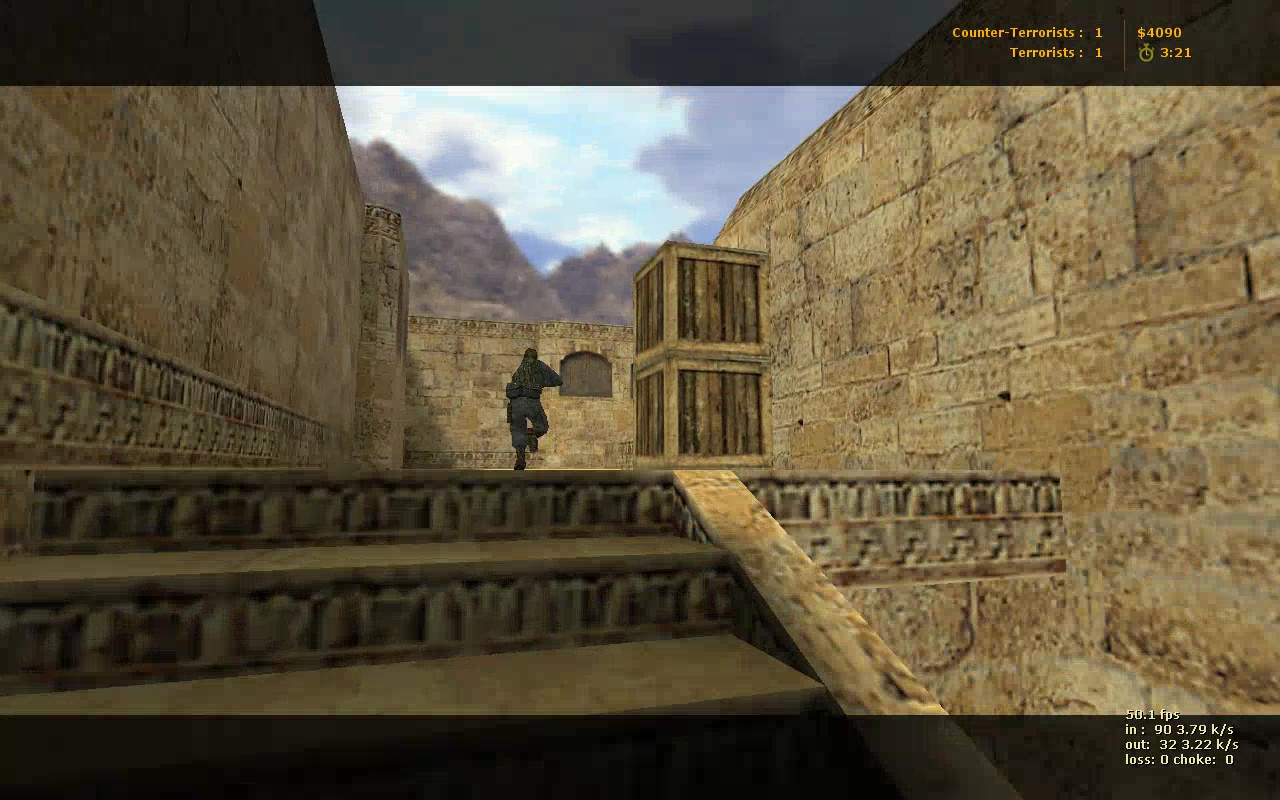ct: (504, 349, 564, 467)
